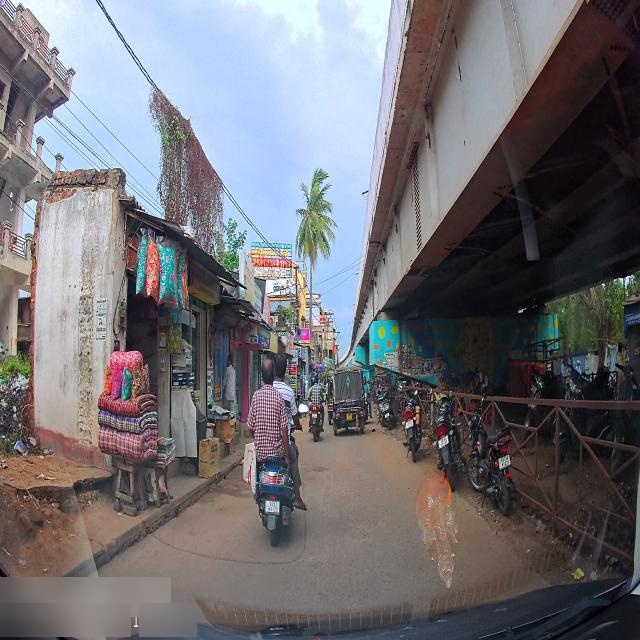pothole: (312, 463, 331, 476)
